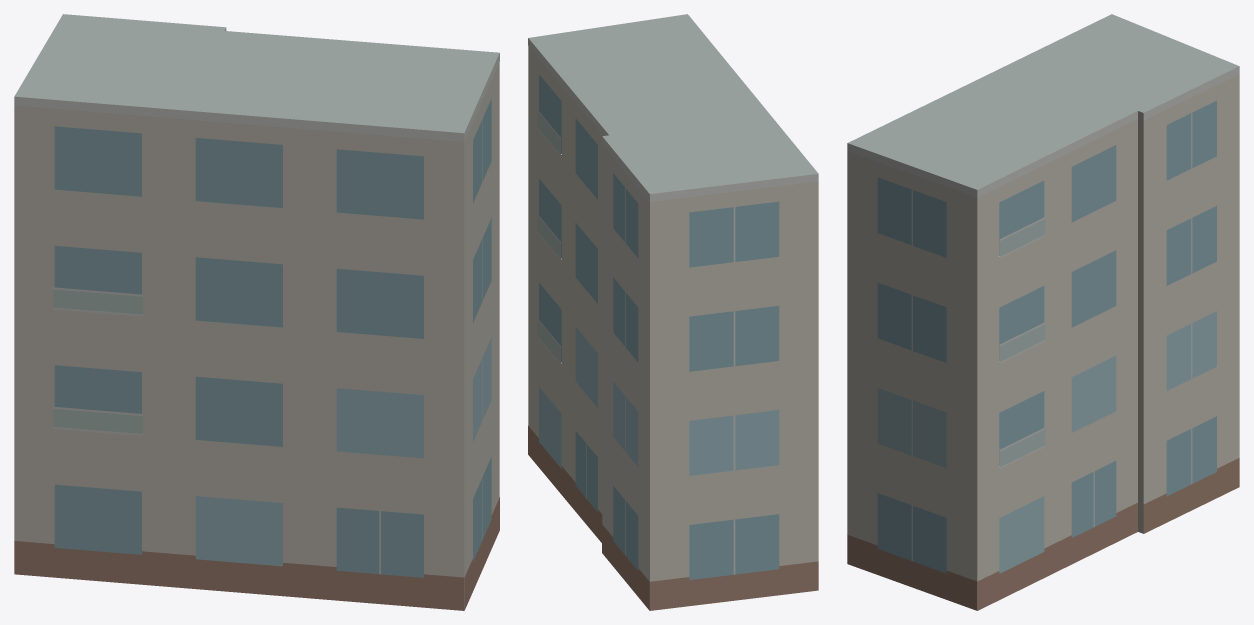
The model's file is survey-upis-32469710.glb.
3 renders of one model, left to right at view 1: azimuth 30°, elevation 25°; view 2: azimuth 150°, elevation 25°; view 3: azimuth 270°, elevation 25°, orthographic. The views are drawn at different scales.
Parts seen in each view (by area): view 1: survey-upis-32469710.tmp; view 2: survey-upis-32469710.tmp; view 3: survey-upis-32469710.tmp.
Boxes of the visible parts, x1=… form: survey-upis-32469710.tmp: x1=14, y1=14, x2=499, y2=610; survey-upis-32469710.tmp: x1=528, y1=14, x2=818, y2=610; survey-upis-32469710.tmp: x1=847, y1=14, x2=1239, y2=610.
Bounding box in the file's own units: 11.89 × 13.25 × 11.19.
